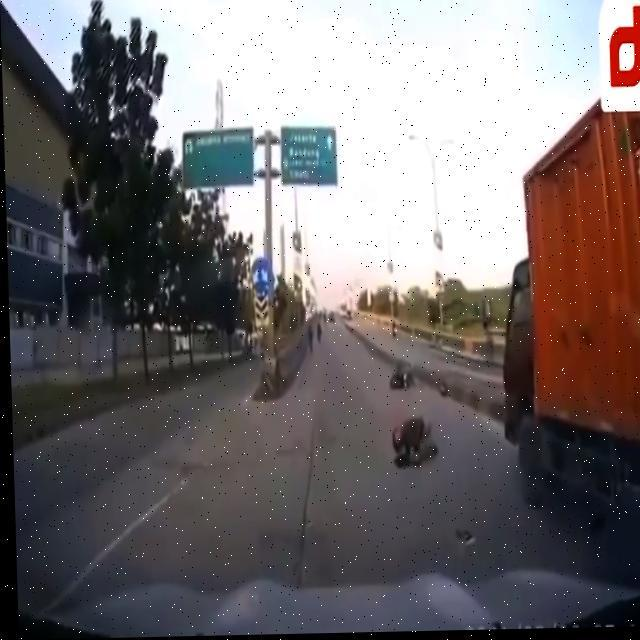multiple_accident: (352, 290, 457, 537)
normal: (480, 70, 640, 555)
